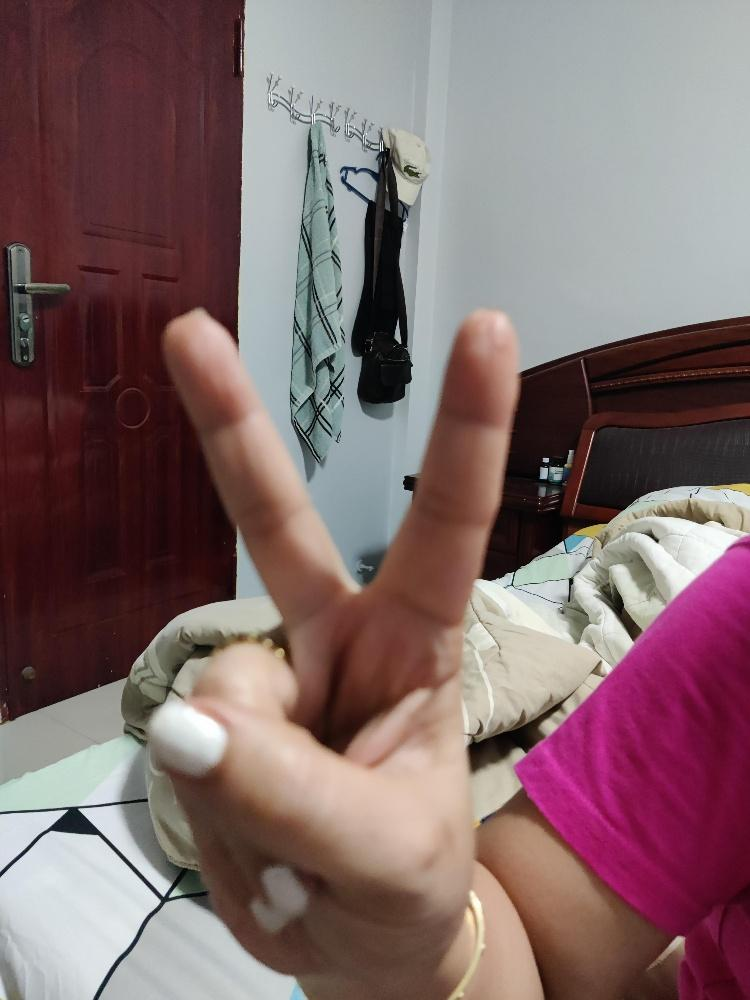v: (141, 305, 520, 978)
